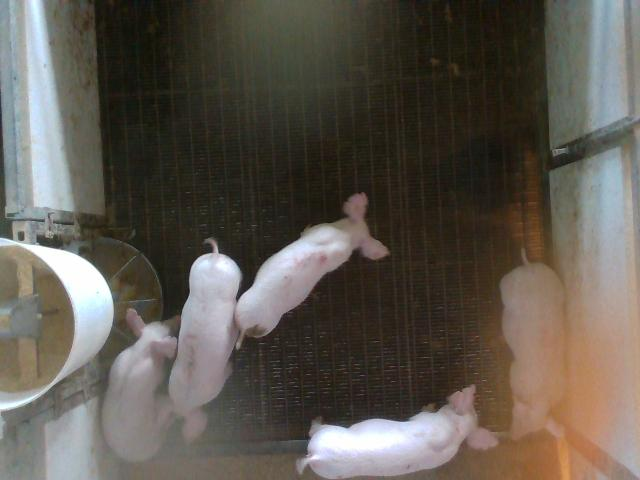pig-3: (156, 238, 241, 441)
pig-5: (236, 192, 389, 348)
